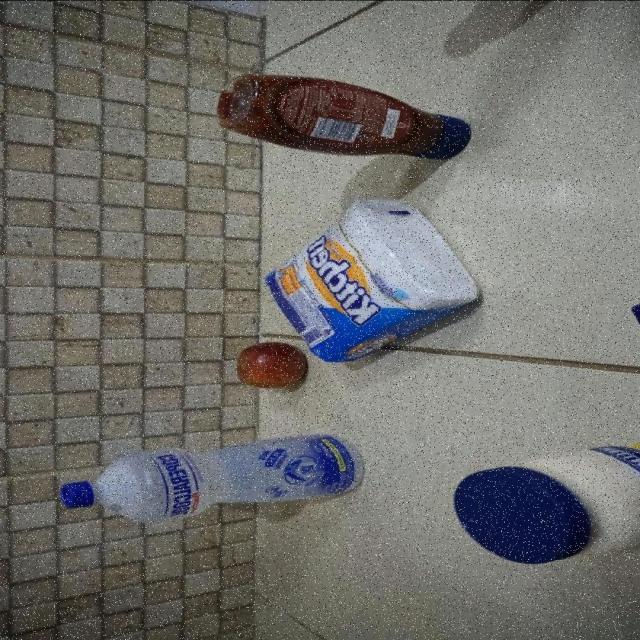AlcoholBottle: (60, 432, 364, 523)
Apple: (236, 341, 307, 390)
Ketchup: (218, 70, 474, 161)
Mayonnaise: (454, 437, 640, 566)
Napkin: (264, 199, 482, 361)
